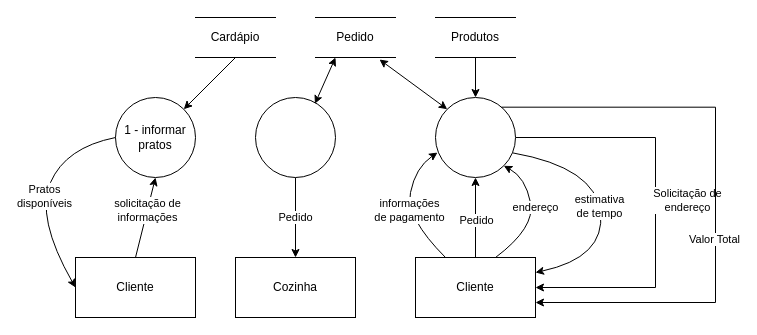
The diagram is 757 pixels wide and 335 high, and some of its shapes have lost their labels. Each missing label, with the centre of its shape:
"2 - receber pedido" belongs at point (475, 137).
"3 - Solicitar preparo" belongs at point (295, 137).
